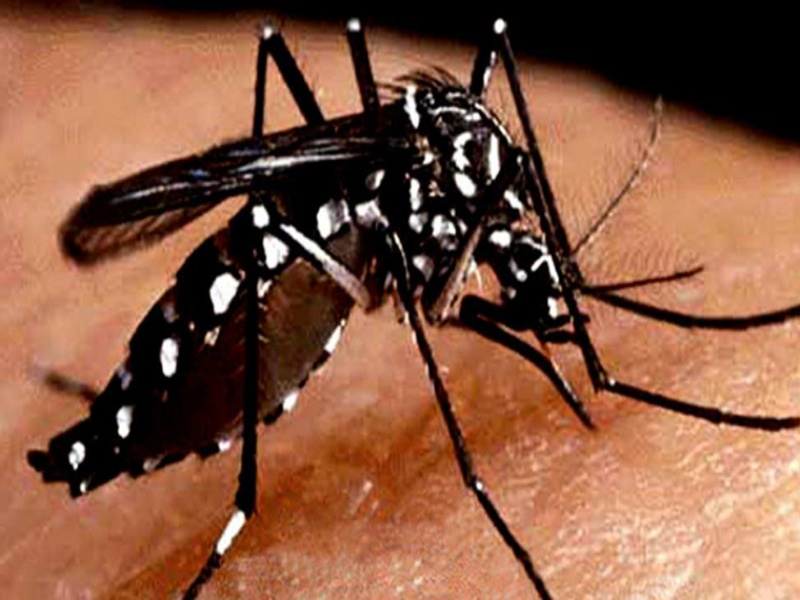dengue_mosquito: (67, 18, 640, 479)
